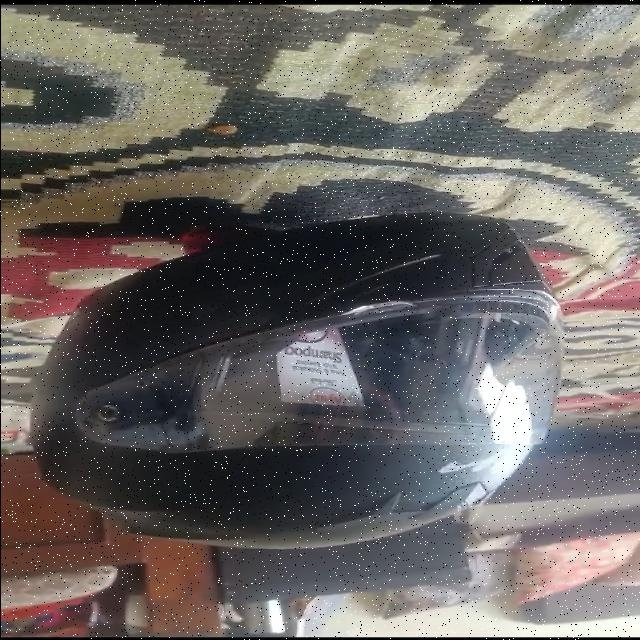Helmet: (28, 226, 561, 548)
